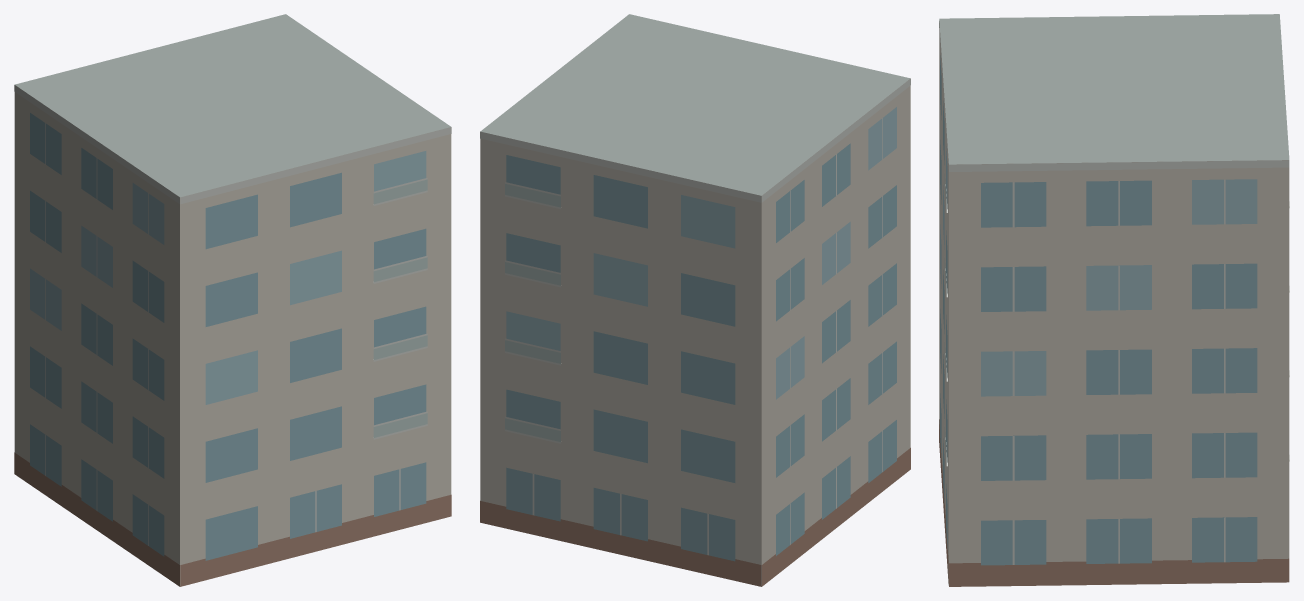
File: survey-upis-32973115.glb
The picture shows the model from 3 angles, left to right: view 1: azimuth 30°, elevation 25°; view 2: azimuth 150°, elevation 25°; view 3: azimuth 270°, elevation 25°; orthographic projection. The views are drawn at different scales.
Visible parts, largest first — view 1: survey-upis-32973115.tmp; view 2: survey-upis-32973115.tmp; view 3: survey-upis-32973115.tmp.
Boxes of the visible parts, x1=… form: survey-upis-32973115.tmp: x1=14, y1=14, x2=451, y2=586; survey-upis-32973115.tmp: x1=480, y1=14, x2=910, y2=586; survey-upis-32973115.tmp: x1=939, y1=14, x2=1289, y2=586.
Size of the model in its own units: 10.41 by 13.6 by 10.24.
